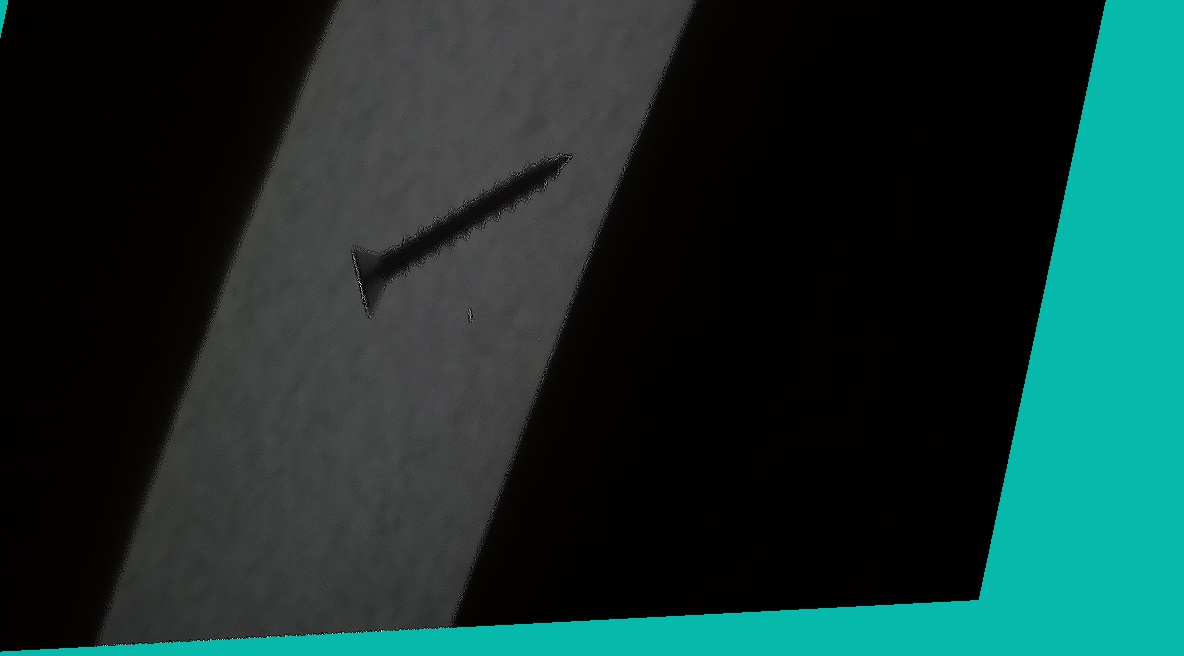S001: (318, 132, 588, 331)
